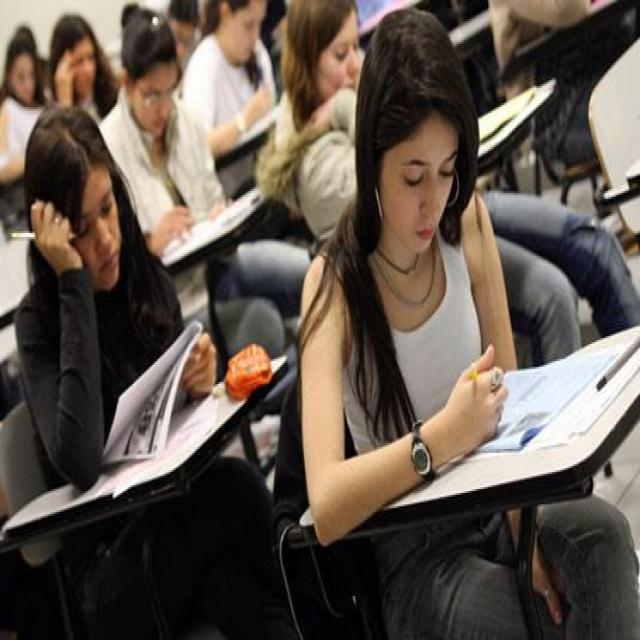person: (333, 17, 634, 638), (1, 70, 245, 480), (102, 15, 226, 262), (278, 2, 369, 212), (186, 13, 272, 160), (35, 5, 121, 134), (2, 27, 48, 162)
